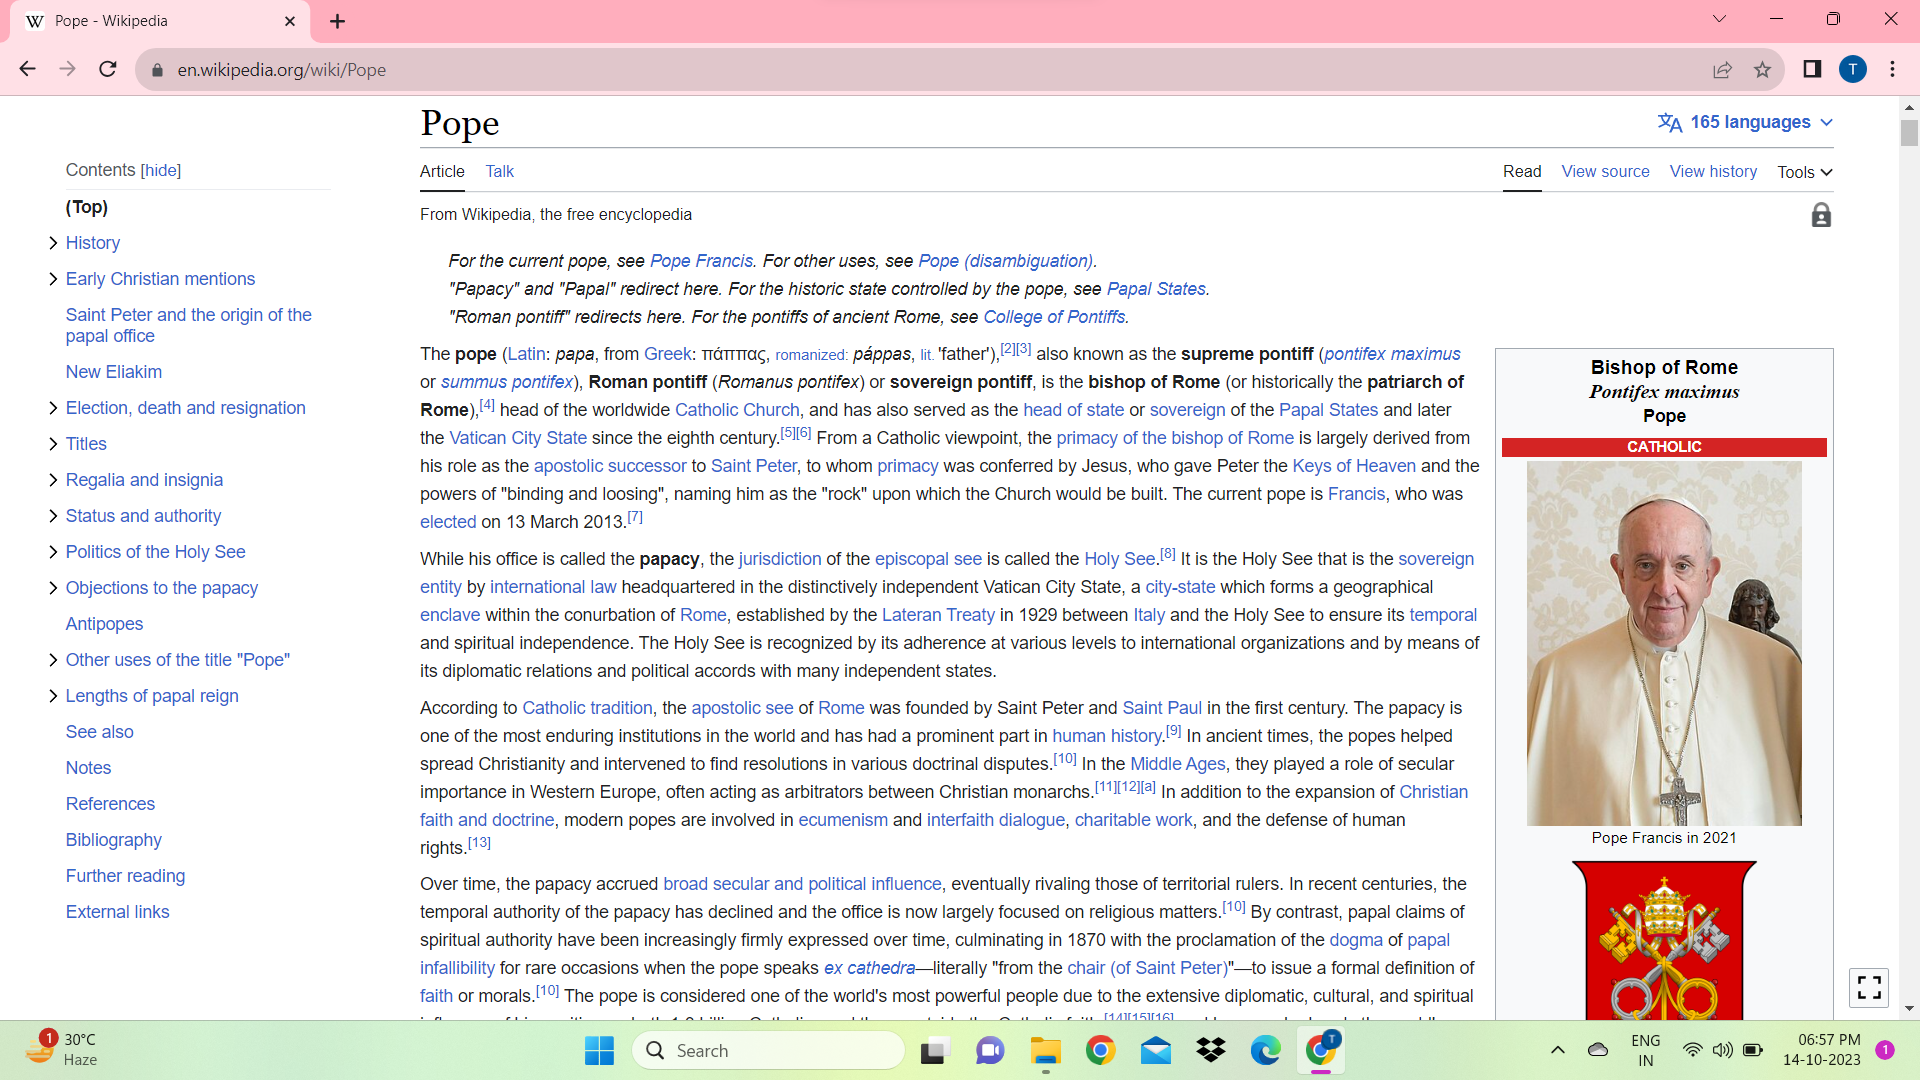Image: (1509, 447, 1853, 841), (1547, 851, 1788, 1031)
Paragraph: (404, 336, 1499, 537), (390, 688, 1493, 856), (397, 861, 1509, 1021), (407, 542, 1490, 684), (435, 245, 1242, 330), (1564, 345, 1756, 430), (404, 186, 686, 231), (58, 390, 319, 427), (58, 535, 264, 566), (58, 261, 257, 291), (44, 895, 216, 930), (50, 686, 272, 712), (58, 783, 187, 824), (406, 104, 512, 146), (45, 200, 132, 216)
